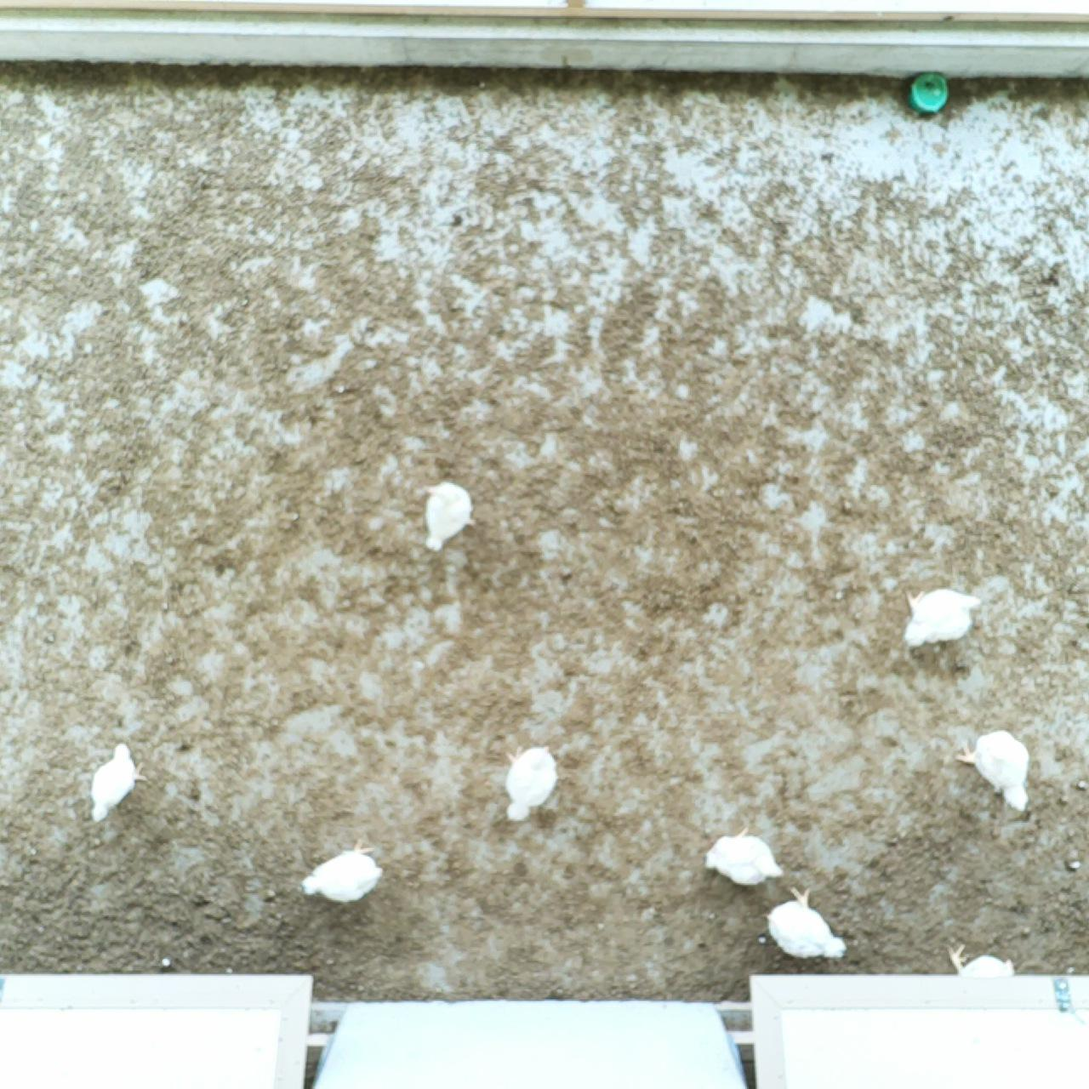chicken: (955, 721, 1037, 821), (760, 881, 849, 964), (298, 833, 388, 907), (899, 583, 981, 654), (704, 825, 788, 893), (86, 739, 150, 828), (501, 740, 564, 827), (418, 476, 481, 555), (943, 937, 1018, 982)
